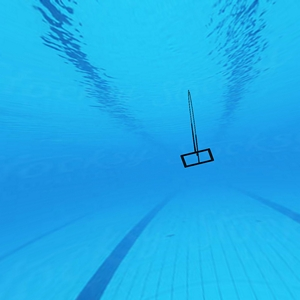circle: (175, 91, 220, 170)
